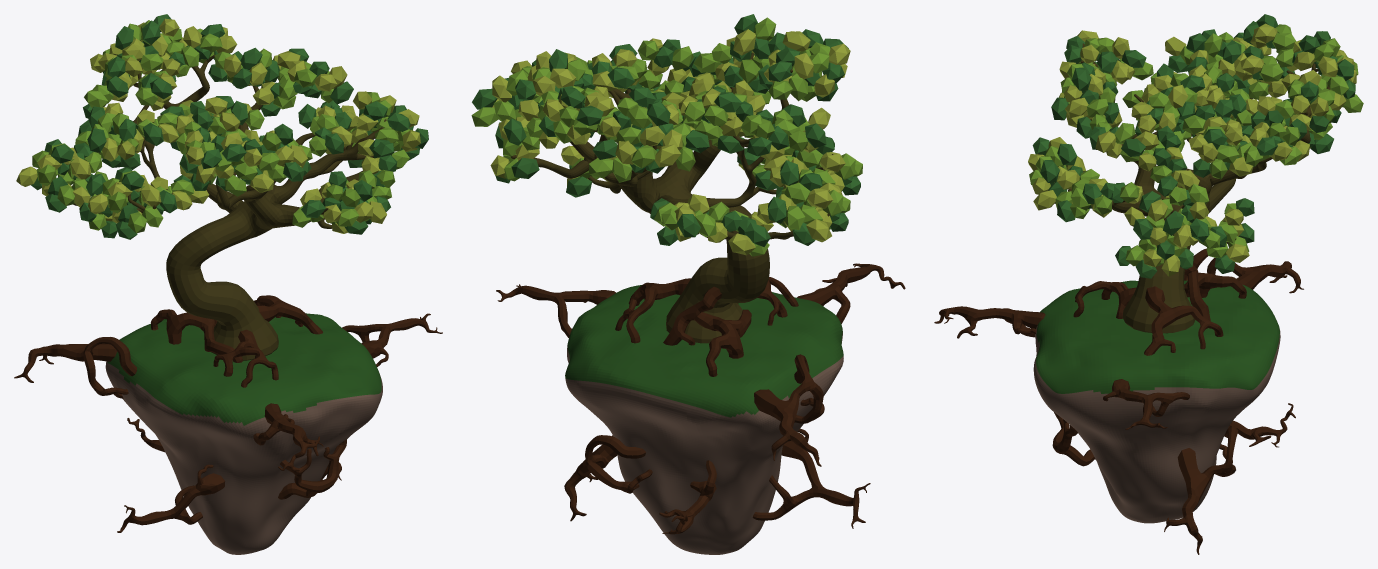
File: IslaJam.fbx
3 renders of one model, left to right at view 1: azimuth 30°, elevation 25°; view 2: azimuth 150°, elevation 25°; view 3: azimuth 270°, elevation 25°, orthographic. The views are drawn at different scales.
Visible parts, largest first — view 1: Hojas, Isla, Plane.001, Raiz3, Plane.007, Raiz_dec2, Plane.008, Raiz1, Raiz2, Roots, Raiz_dec1; view 2: Hojas, Isla, Plane.001, Raiz3, Raiz_dec2, Plane.010, Plane.007, Raiz1, Raiz_dec1, Raiz2, Raiz_dec13, Roots; view 3: Hojas, Isla, Plane.001, Plane.010, Raiz_dec1, Raiz1, Raiz3, Raiz2, Raiz_dec2, Roots, Plane.008, Raiz_dec13.
Boxes of the visible parts, x1,y1,x2,y2 form: Hojas: (16,14,428,239); Isla: (105,313,382,554); Plane.001: (73,54,394,360); Raiz3: (14,337,136,398); Plane.007: (117,464,225,532); Raiz_dec2: (150,309,243,362); Plane.008: (278,439,346,499); Raiz1: (253,403,323,471); Raiz2: (342,313,442,366); Roots: (213,329,278,387); Raiz_dec1: (254,295,322,334); Hojas: (471,14,862,256); Isla: (565,285,843,554); Plane.001: (511,52,833,343); Raiz3: (754,354,824,466); Raiz_dec2: (663,286,751,376); Plane.010: (564,435,652,521); Plane.007: (752,428,870,528); Raiz1: (797,263,905,323); Raiz_dec1: (615,278,690,343); Raiz2: (496,284,615,337); Raiz_dec13: (659,460,716,534); Roots: (737,276,798,325); Hojas: (1028,14,1363,278); Isla: (1033,280,1280,523); Plane.001: (1037,43,1330,333); Plane.010: (1164,426,1238,554); Raiz_dec1: (1144,286,1223,355); Raiz1: (934,306,1045,338); Raiz3: (1184,248,1303,293); Raiz2: (1103,379,1189,429); Raiz_dec2: (1184,264,1246,324); Roots: (1073,281,1136,318); Plane.008: (1052,412,1095,466); Raiz_dec13: (1229,403,1295,447).
Size of the model in its own units: 5443 by 6870 by 5645.
